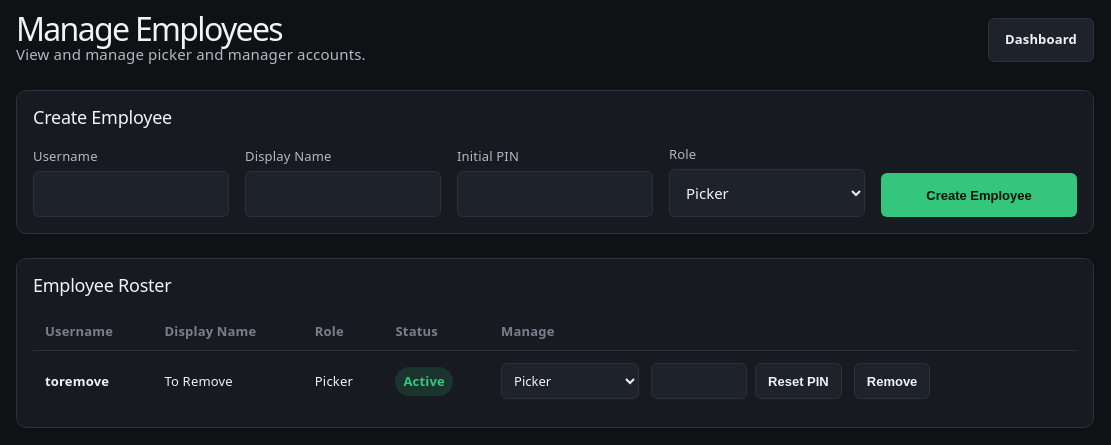
it: AdminPage › removes an active employee and shows them as inactive afterward
Click the button "Remove": (892, 382) [854, 364, 930, 400]
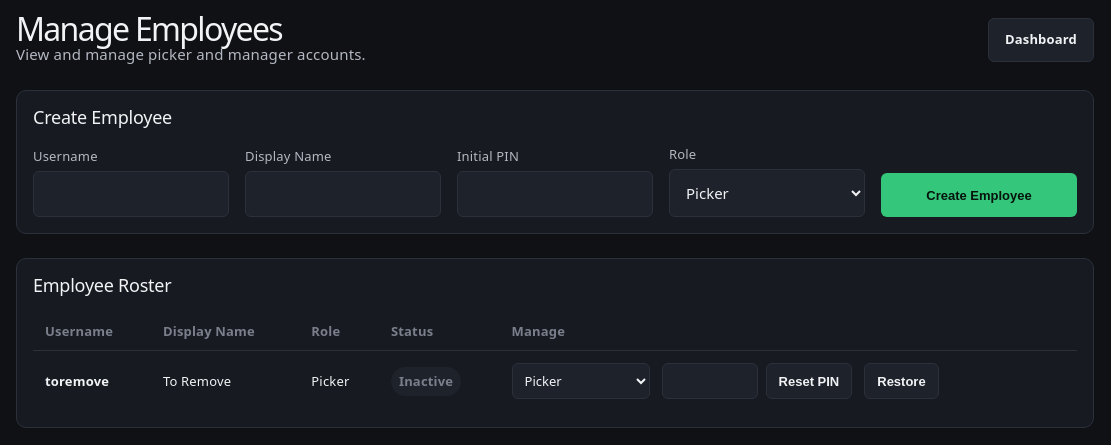
Now the text "Inactive" is shown, box [391, 367, 461, 396]
